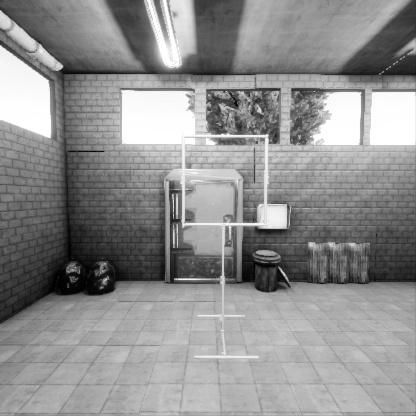gate: (180, 193, 273, 285)
